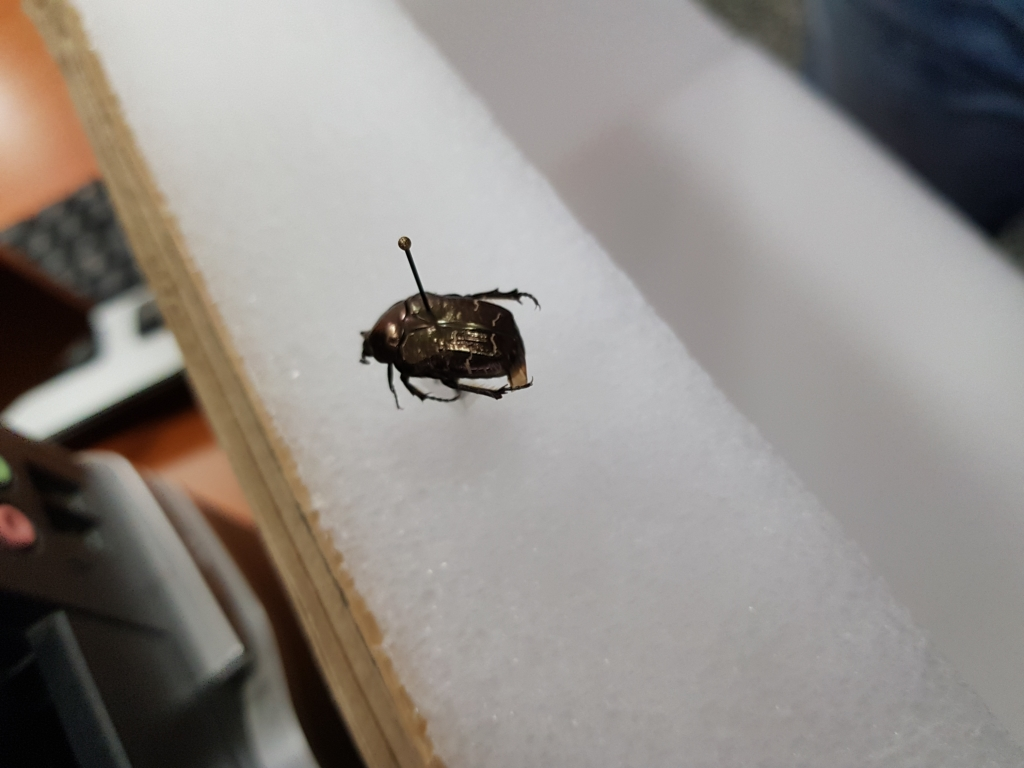Cetonia_kemali: (348, 281, 548, 414)
